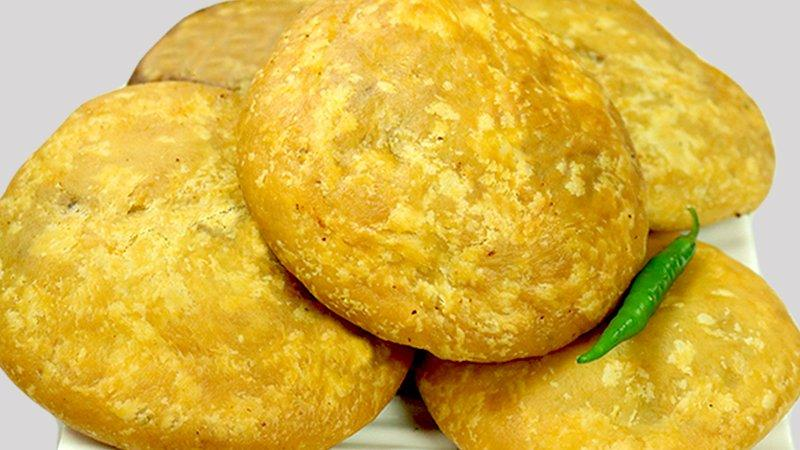kachori: (22, 13, 800, 450)
